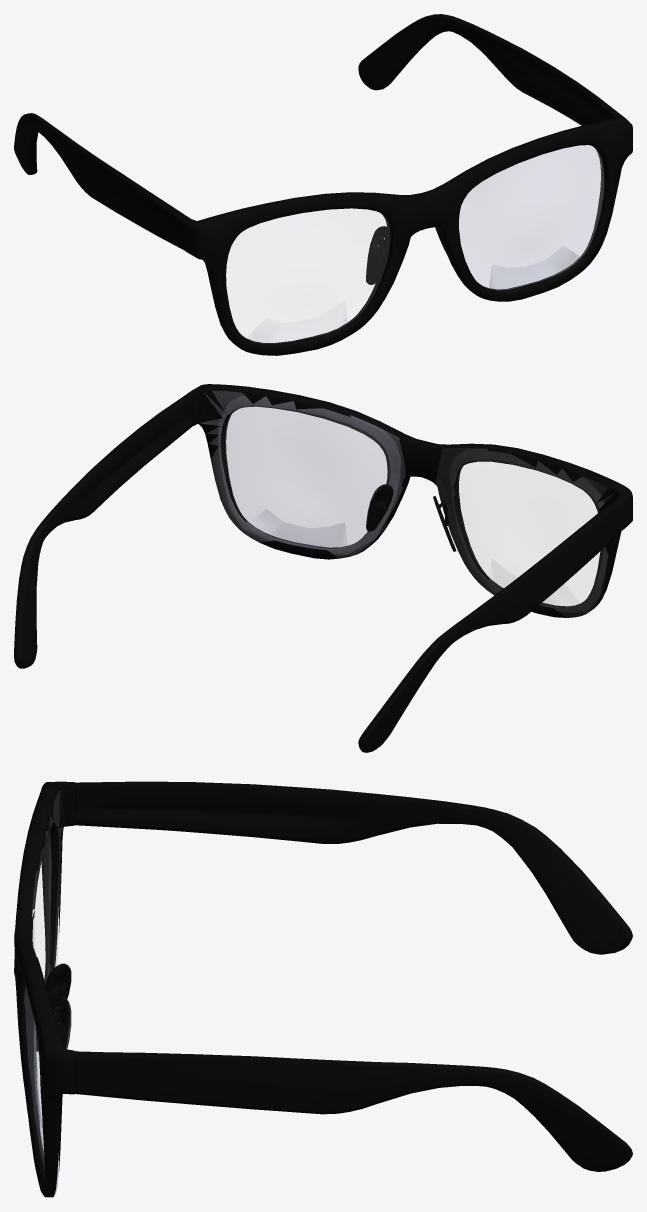
Rendered from horn_glasses.glb.
3 views of the same model, one above another, from view 1: azimuth 30°, elevation 25°; view 2: azimuth 150°, elevation 25°; view 3: azimuth 270°, elevation 25° (orthographic). The views are drawn at different scales.
Visible parts, largest first — view 1: glasses; view 2: glasses; view 3: glasses.
Boxes of the visible parts, bbox=[...] form: glasses: bbox=[14, 14, 632, 355]; glasses: bbox=[14, 384, 632, 752]; glasses: bbox=[14, 781, 632, 1197].
Size of the model in its own units: 0.142 by 0.0475 by 0.1341.
Materials: 3 (1 with a texture image).
